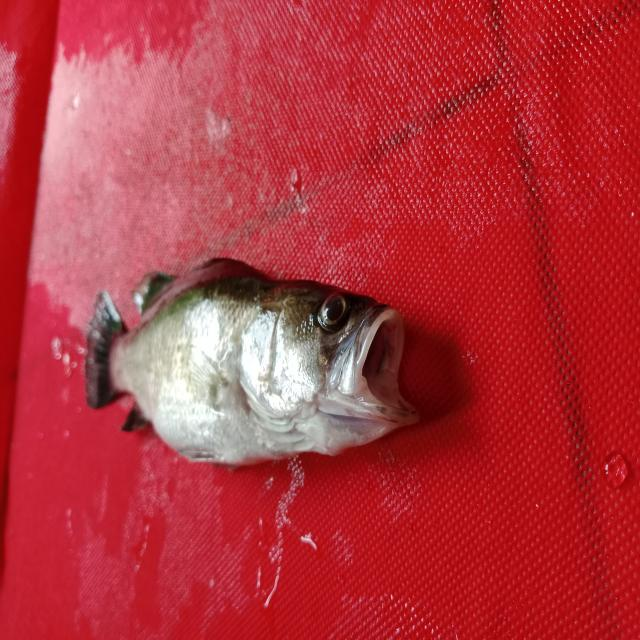ikan: (68, 233, 451, 481)
